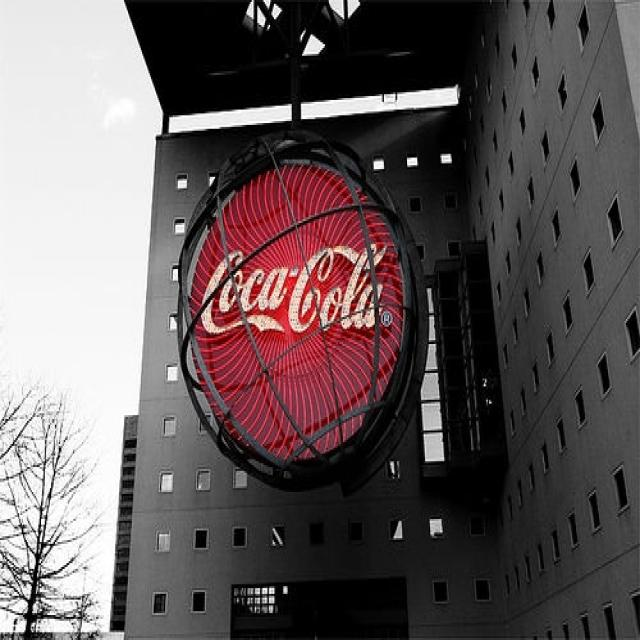cocacola: (199, 237, 398, 349)
